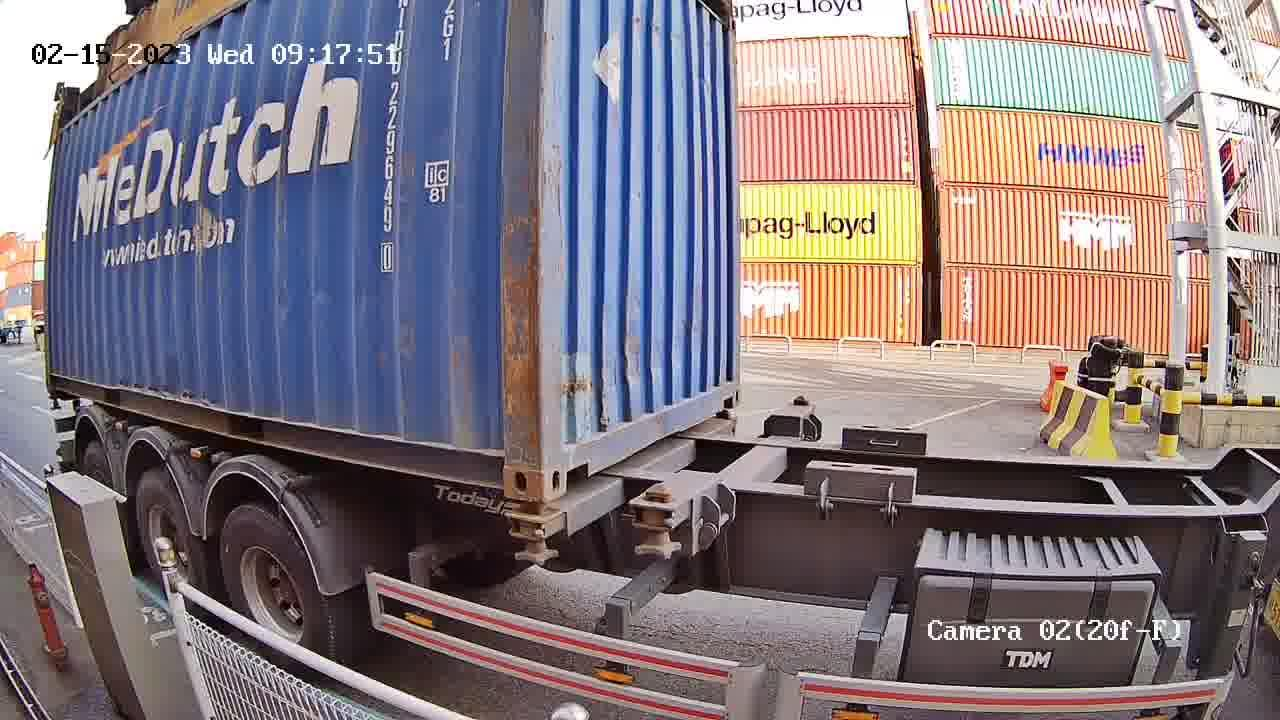Chassis: (554, 415, 741, 543)
Cone: (509, 501, 556, 562)
Hole_L: (541, 401, 623, 505)
Hole_R: (466, 416, 544, 505), (701, 355, 744, 420)
Tire: (222, 509, 332, 654), (136, 471, 208, 593)
